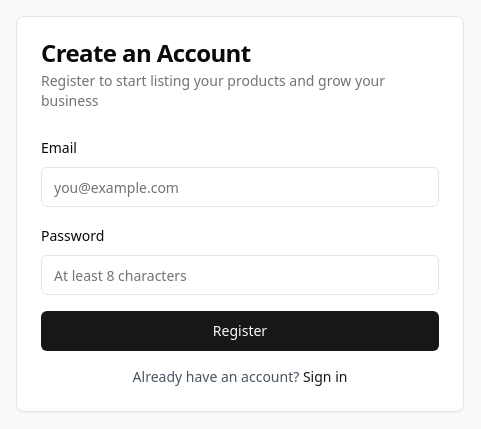
Test case: RegisterPage › should show loading state during form submission
Type "test@example.com" into the field labelled "Email" at (240, 187), box [41,167,439,207]
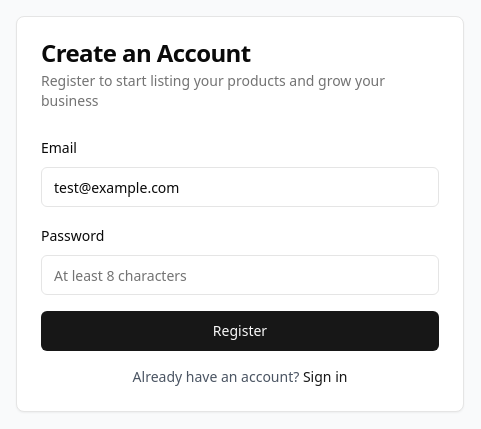
Type "password123" into the password field labelled "Password" at (240, 275), box [41,255,439,295]
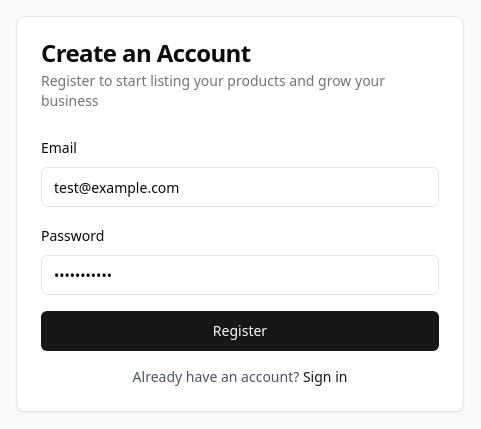
Click the button "Register" at (240, 331), box [41,311,439,351]
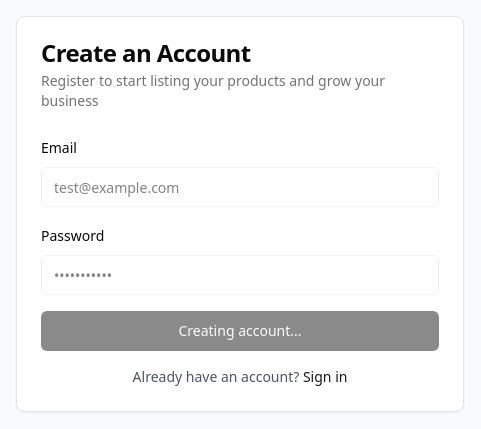
Check: the button "Creating account..." is shown, box [41,311,439,351]
